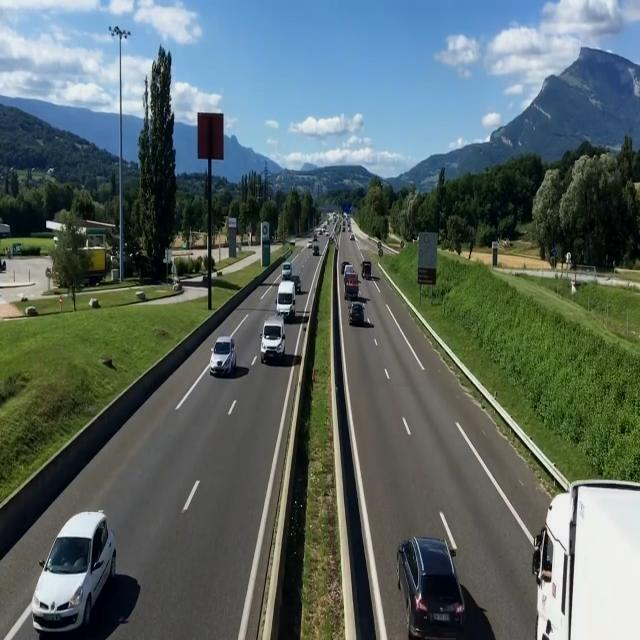Car: (37, 478, 111, 636), (398, 504, 476, 640), (207, 332, 240, 385), (343, 300, 375, 326), (289, 274, 310, 298), (302, 237, 314, 250), (312, 242, 320, 256), (341, 258, 351, 268)
Truck: (361, 253, 380, 283), (342, 268, 359, 300)
Van: (261, 312, 289, 358), (275, 278, 300, 316), (282, 262, 293, 278)
